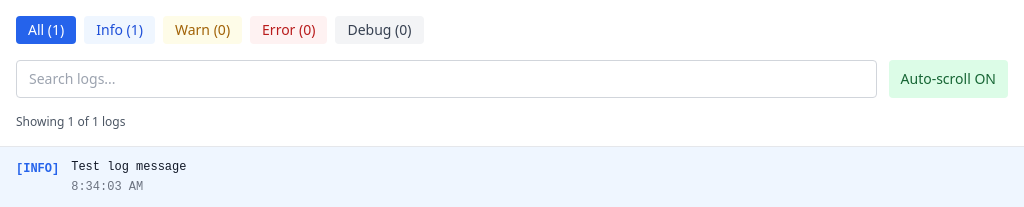
Test case: RealTimeLogs › should handle no matching logs message
The width and height of the screenshot is (1024, 207).
// Filter to error
Click the button "Error (0)".
click(289, 30)  # box [250,16,328,44]
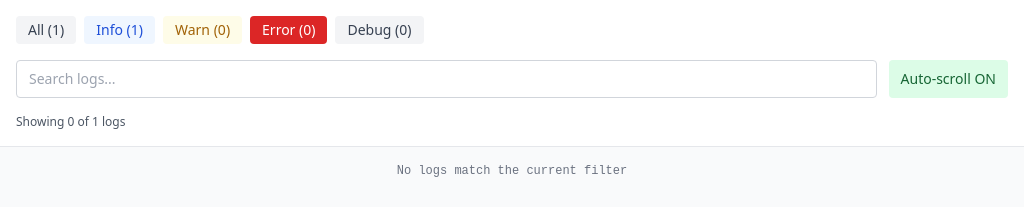
Check: the text "No logs match the current filter" is shown, box [397,164,627,178]
